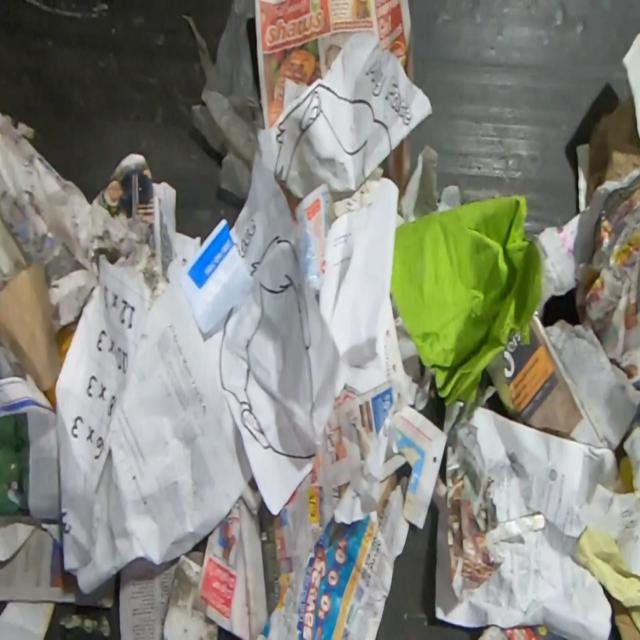cardboard: (390, 194, 544, 406), (610, 595, 640, 639), (396, 212, 406, 228)
soft_plastic: (180, 0, 264, 203)
